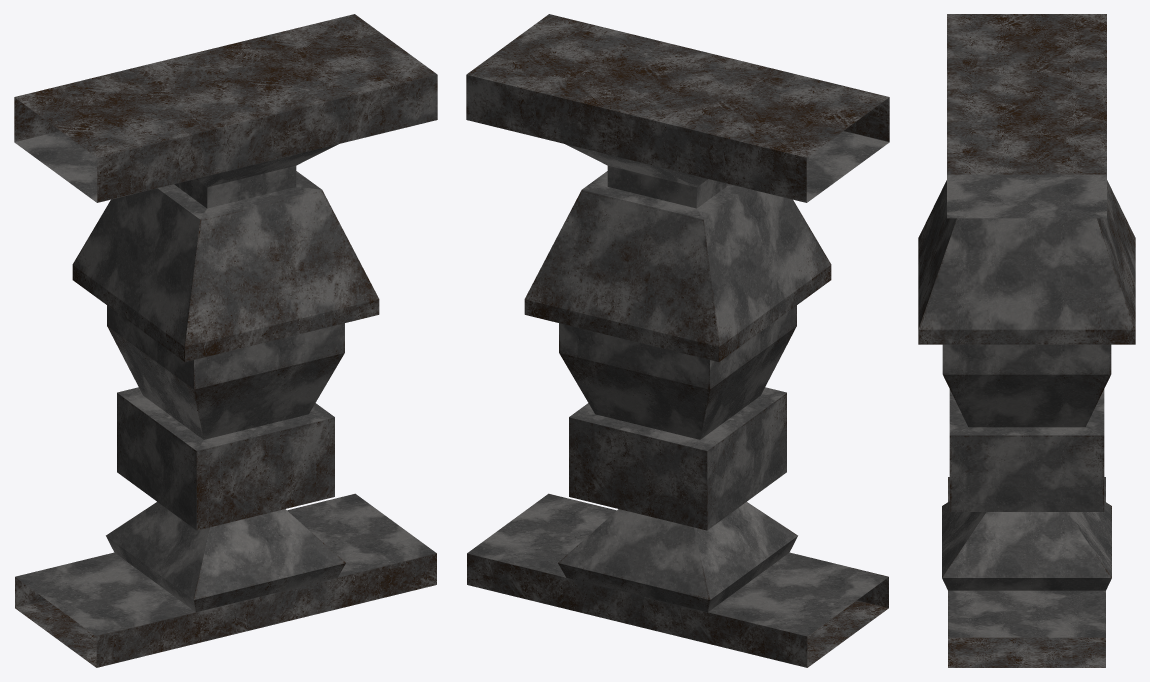
Rendered from FenceMiddle.fbx.
The picture shows the model from 3 angles, left to right: view 1: azimuth 30°, elevation 25°; view 2: azimuth 150°, elevation 25°; view 3: azimuth 270°, elevation 25°; orthographic projection. The views are drawn at different scales.
Parts seen in each view (by area): view 1: Cube.001; view 2: Cube.001; view 3: Cube.001.
Boxes of the visible parts, bbox=[...] form: Cube.001: bbox=[14, 14, 437, 667]; Cube.001: bbox=[466, 14, 889, 667]; Cube.001: bbox=[918, 14, 1135, 667].
Size of the model in its own units: 155 by 223 by 88.84.
Materials: 1 (1 with a texture image).
